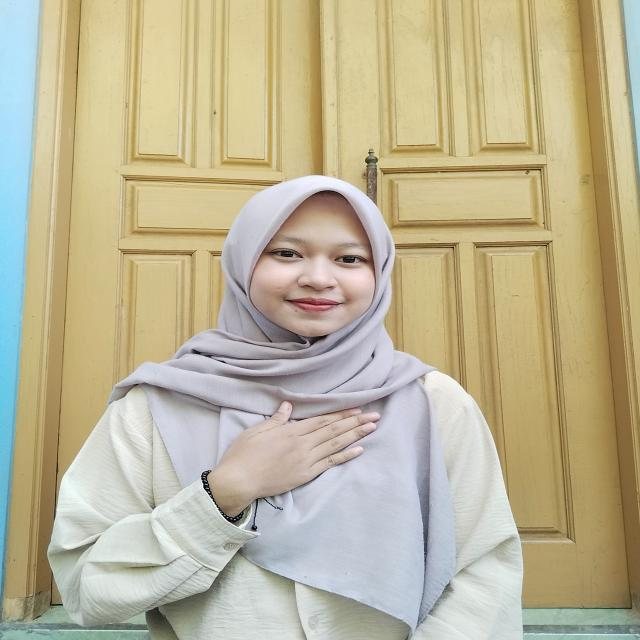tolong: (177, 398, 382, 538)
